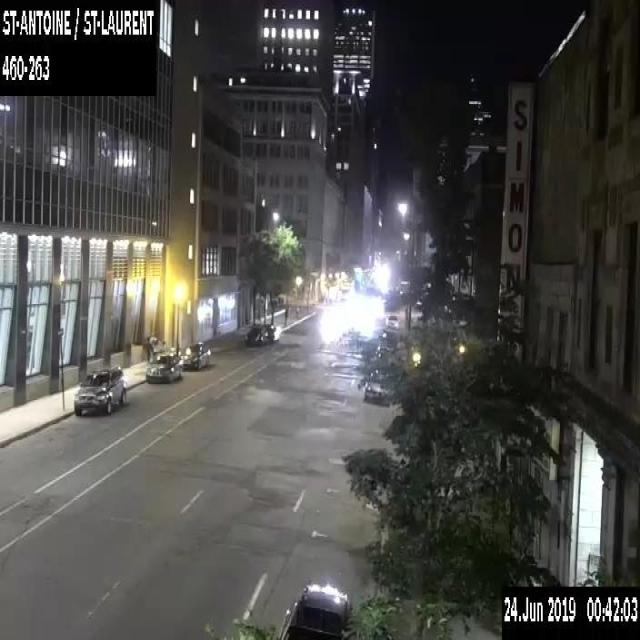pedestrian: (144, 336, 153, 363)
vehicle: (279, 580, 350, 639), (73, 366, 127, 418), (145, 351, 183, 384), (179, 340, 210, 369), (363, 373, 392, 404), (244, 324, 268, 343), (263, 323, 279, 342), (384, 313, 400, 330)
